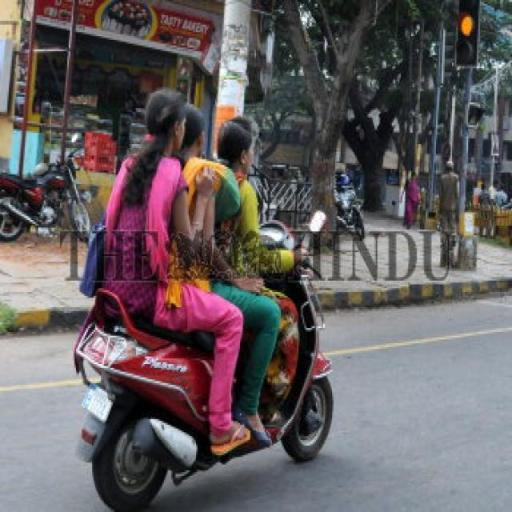tripple riding: (72, 80, 346, 481)
